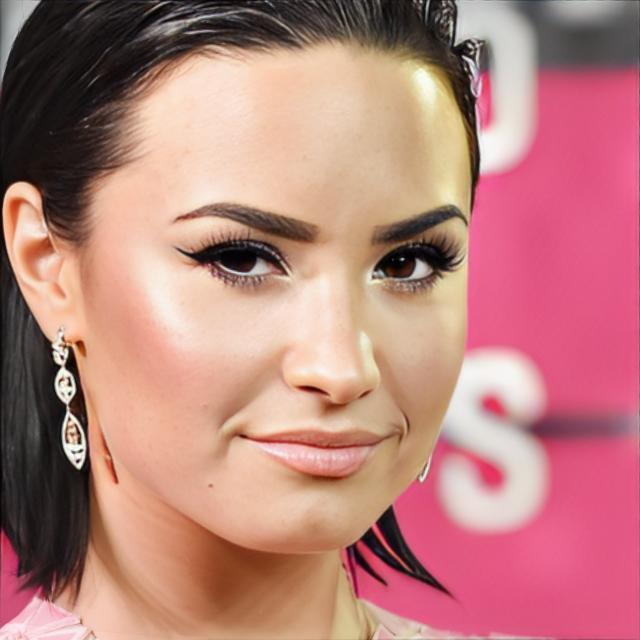content: (88, 32, 473, 559)
